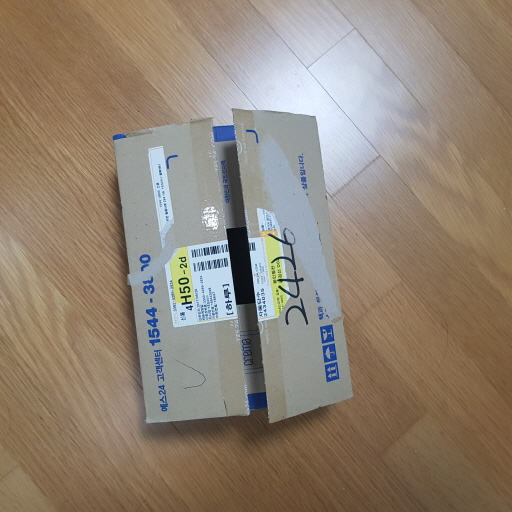Paper_0: (107, 107, 375, 435)
